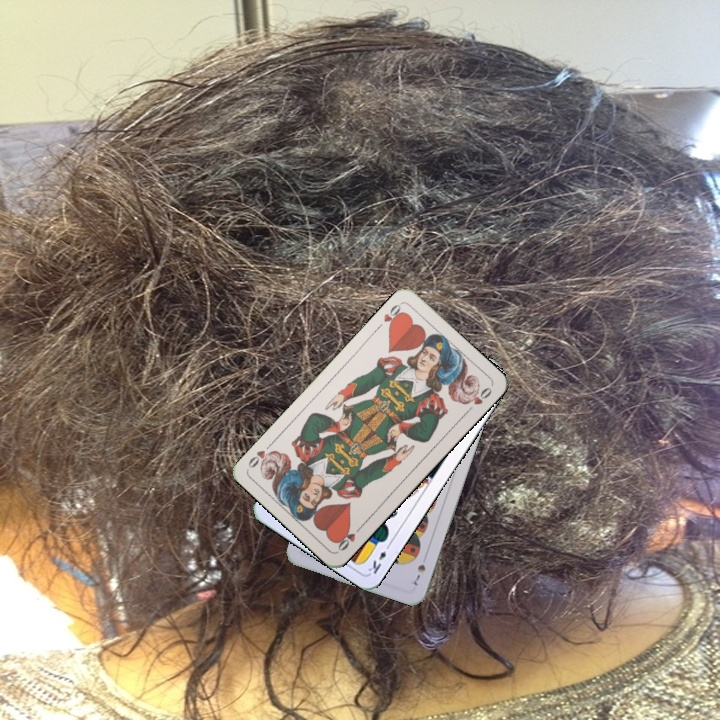EK: (364, 539, 394, 577)
HO: (332, 521, 365, 553), (379, 299, 407, 331)
S7: (408, 560, 428, 588)
